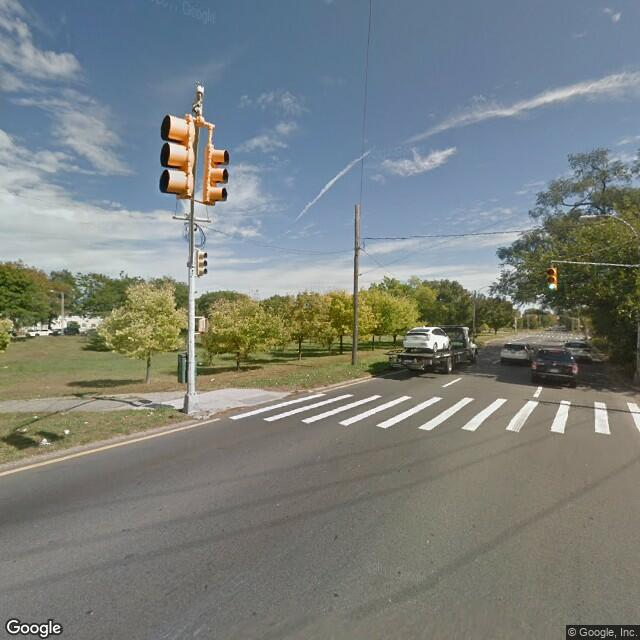litter: (13, 424, 29, 434), (39, 435, 53, 445), (147, 409, 159, 415), (85, 421, 94, 427), (211, 374, 215, 382), (62, 428, 72, 431), (346, 366, 350, 371), (31, 413, 40, 415)
